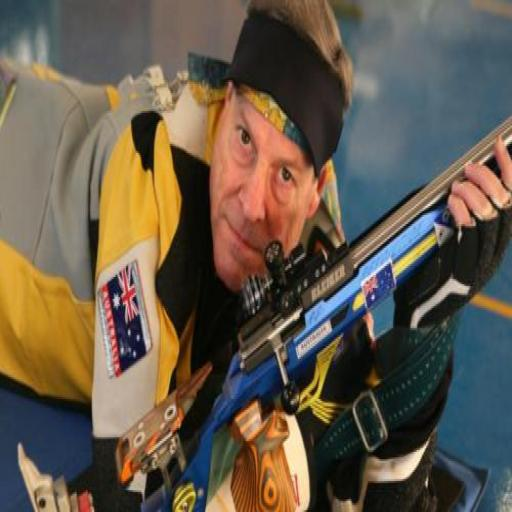shooting: (0, 2, 511, 510)
